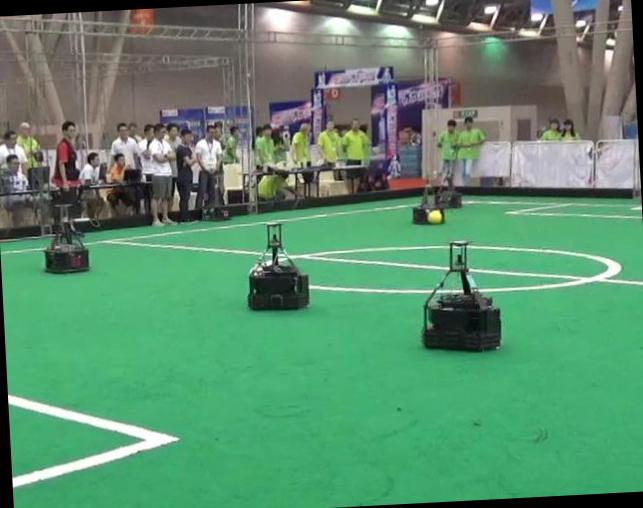ball: (426, 209, 442, 223)
person: (147, 124, 174, 226)
robot: (422, 241, 500, 350), (247, 223, 308, 309), (43, 203, 87, 273), (412, 185, 443, 224), (435, 160, 460, 208)
